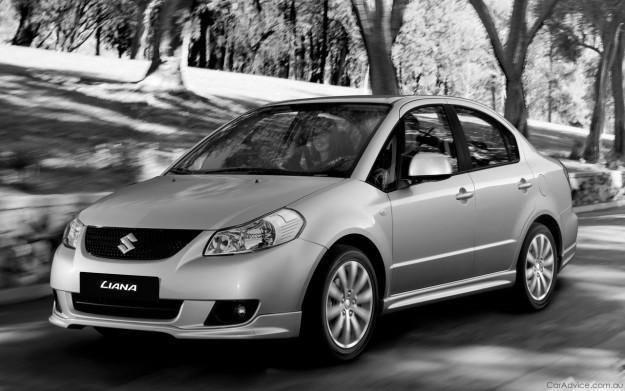car: (48, 92, 582, 368)
